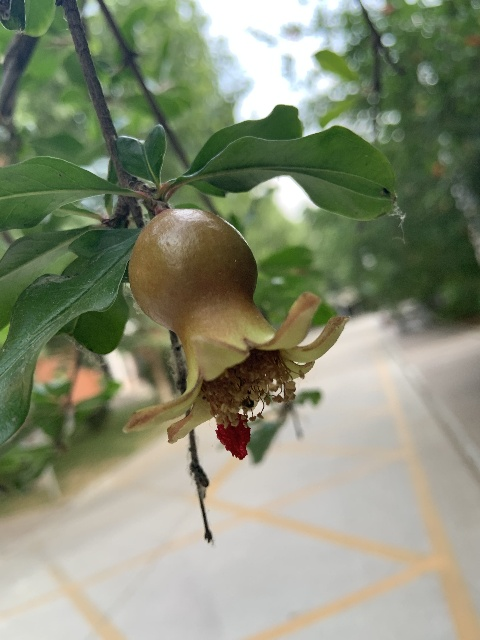early-fruit: (123, 206, 350, 456)
